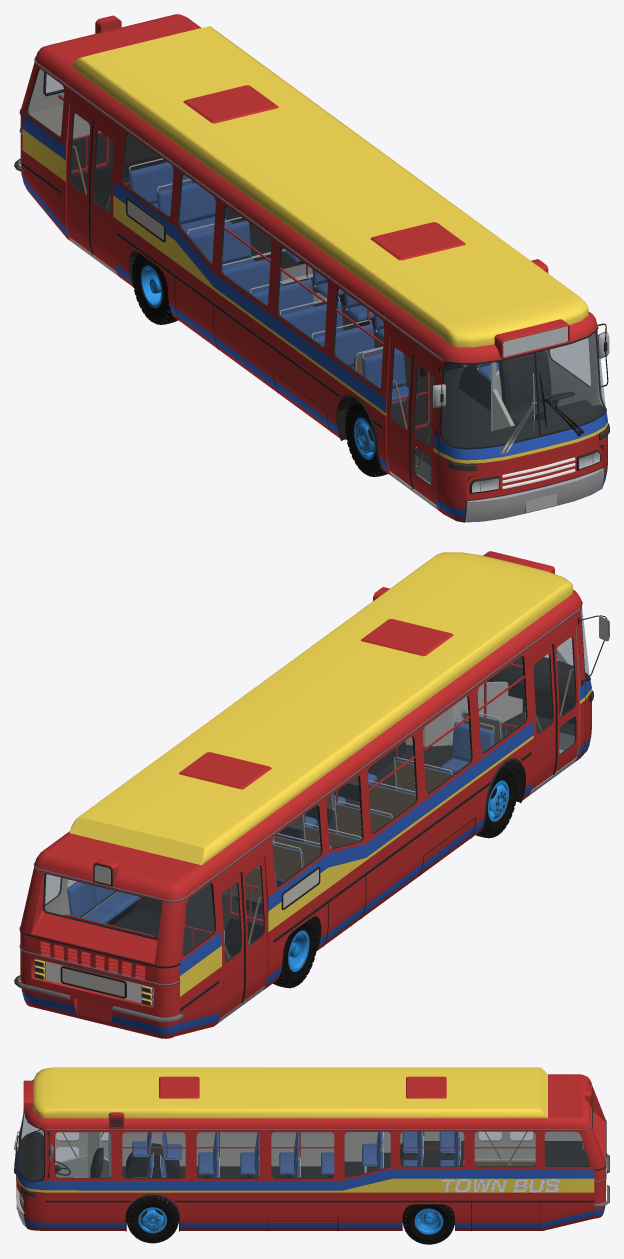
The model's file is TownBus.fbx.
3 renders of one model, top to bottom at view 1: azimuth 30°, elevation 25°; view 2: azimuth 150°, elevation 25°; view 3: azimuth 270°, elevation 25°, orthographic. The views are drawn at different scales.
Parts seen in each view (by area): view 1: TownBus.069, TownBus.008, TownBus.011, TownBus.020, TownBus.031, TownBus.032, TownBus.033, TownBus.279, TownBus.035, TownBus.668, TownBus.034, TownBus.318 (+40 smaller); view 2: TownBus.069, TownBus.008, TownBus.011, TownBus.030, TownBus.063, TownBus.031, TownBus.032, TownBus.033, TownBus.281, TownBus.310, TownBus.035, TownBus.034 (+30 smaller); view 3: TownBus.069, TownBus.011, TownBus.008, TownBus.267, TownBus.023, TownBus.024, TownBus.025, TownBus.022, TownBus.027, TownBus.028, TownBus.026, TownBus.029 (+33 smaller).
Boxes of the visible parts, x1,y1,x2,y2 form: TownBus.069: (20,14,607,522); TownBus.008: (71,41,528,347); TownBus.011: (145,26,588,326); TownBus.020: (442,330,605,446); TownBus.031: (335,289,383,387); TownBus.032: (279,248,327,346); TownBus.033: (222,206,270,304); TownBus.279: (415,389,490,466); TownBus.035: (124,133,173,216); TownBus.668: (508,354,550,423); TownBus.034: (180,175,215,262); TownBus.318: (387,337,412,486); TownBus.069: (20,589,591,1038); TownBus.008: (142,563,572,864); TownBus.011: (69,552,513,831); TownBus.030: (44,874,161,938); TownBus.063: (31,913,157,963); TownBus.031: (478,656,525,752); TownBus.032: (423,697,470,792); TownBus.033: (368,737,415,832); TownBus.281: (106,883,238,954); TownBus.310: (405,682,522,746); TownBus.035: (272,805,320,885); TownBus.034: (326,776,361,847); TownBus.069: (16,1074,605,1230); TownBus.011: (33,1087,547,1118); TownBus.008: (33,1067,545,1090); TownBus.267: (39,1130,582,1177); TownBus.023: (122,1132,185,1177); TownBus.024: (197,1132,259,1177); TownBus.025: (271,1132,333,1177); TownBus.022: (55,1132,110,1177); TownBus.027: (400,1132,463,1166); TownBus.028: (475,1132,535,1165); TownBus.026: (345,1132,390,1176); TownBus.029: (545,1132,589,1165).
Bounding box in the file's own units: 3.19 × 13.08 × 3.24.
20 materials, 3 textured.
